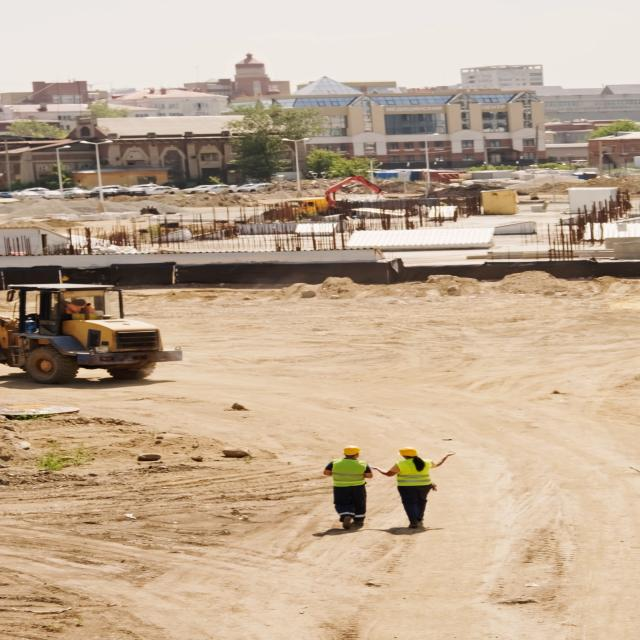machinery: (6, 283, 190, 380)
worker: (385, 443, 440, 531), (326, 442, 378, 528)
